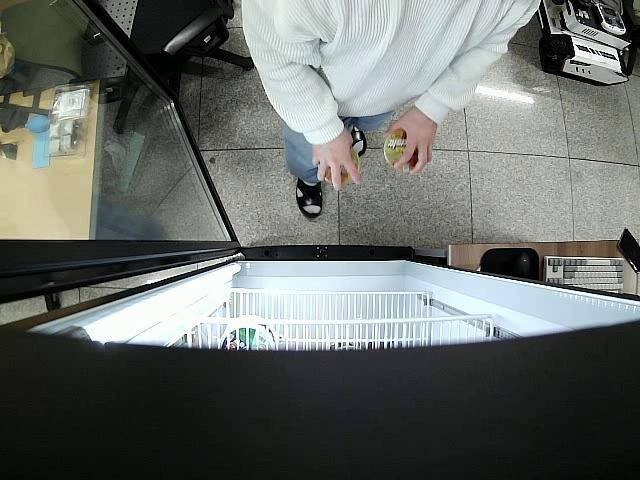04_chapagetti_S: (382, 126, 418, 170), (323, 144, 360, 184)
